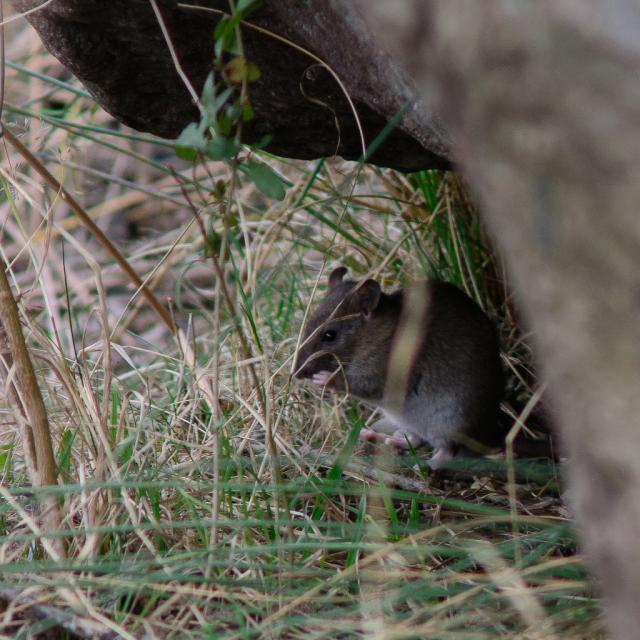rat: (294, 268, 511, 470)
